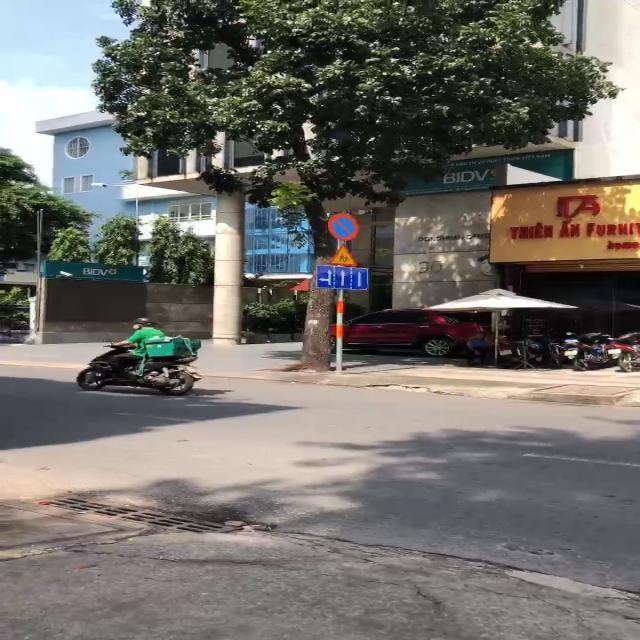Bien bao tre em: (326, 244, 364, 266)
